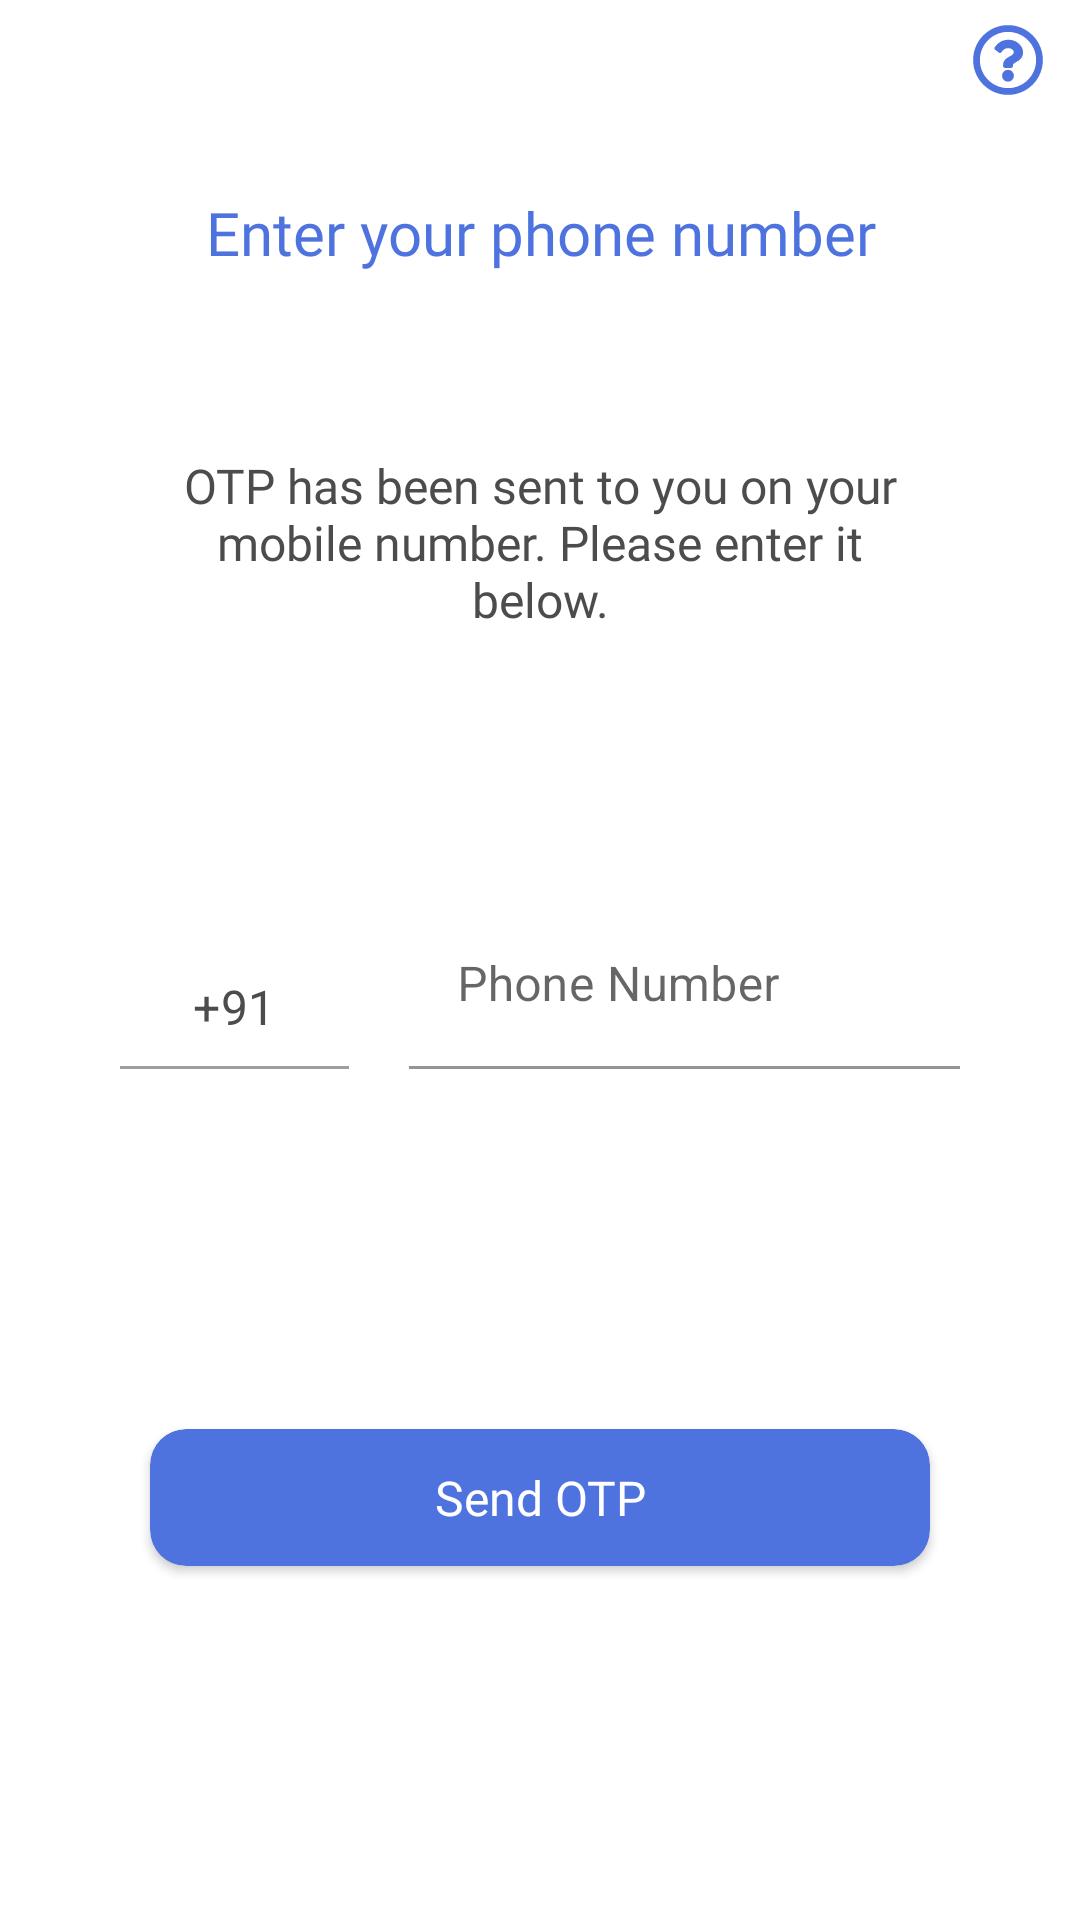

Icon bounding boxes for this 1080*1920 phone screenshot, format (x1, y1, x2, y2):
questionmark: (973, 25, 1043, 95)
